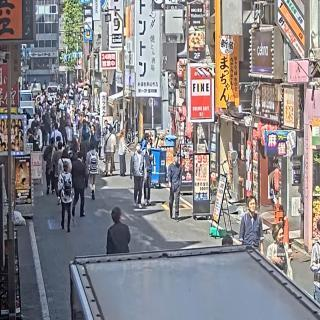Garbage: (12, 209, 29, 227)
